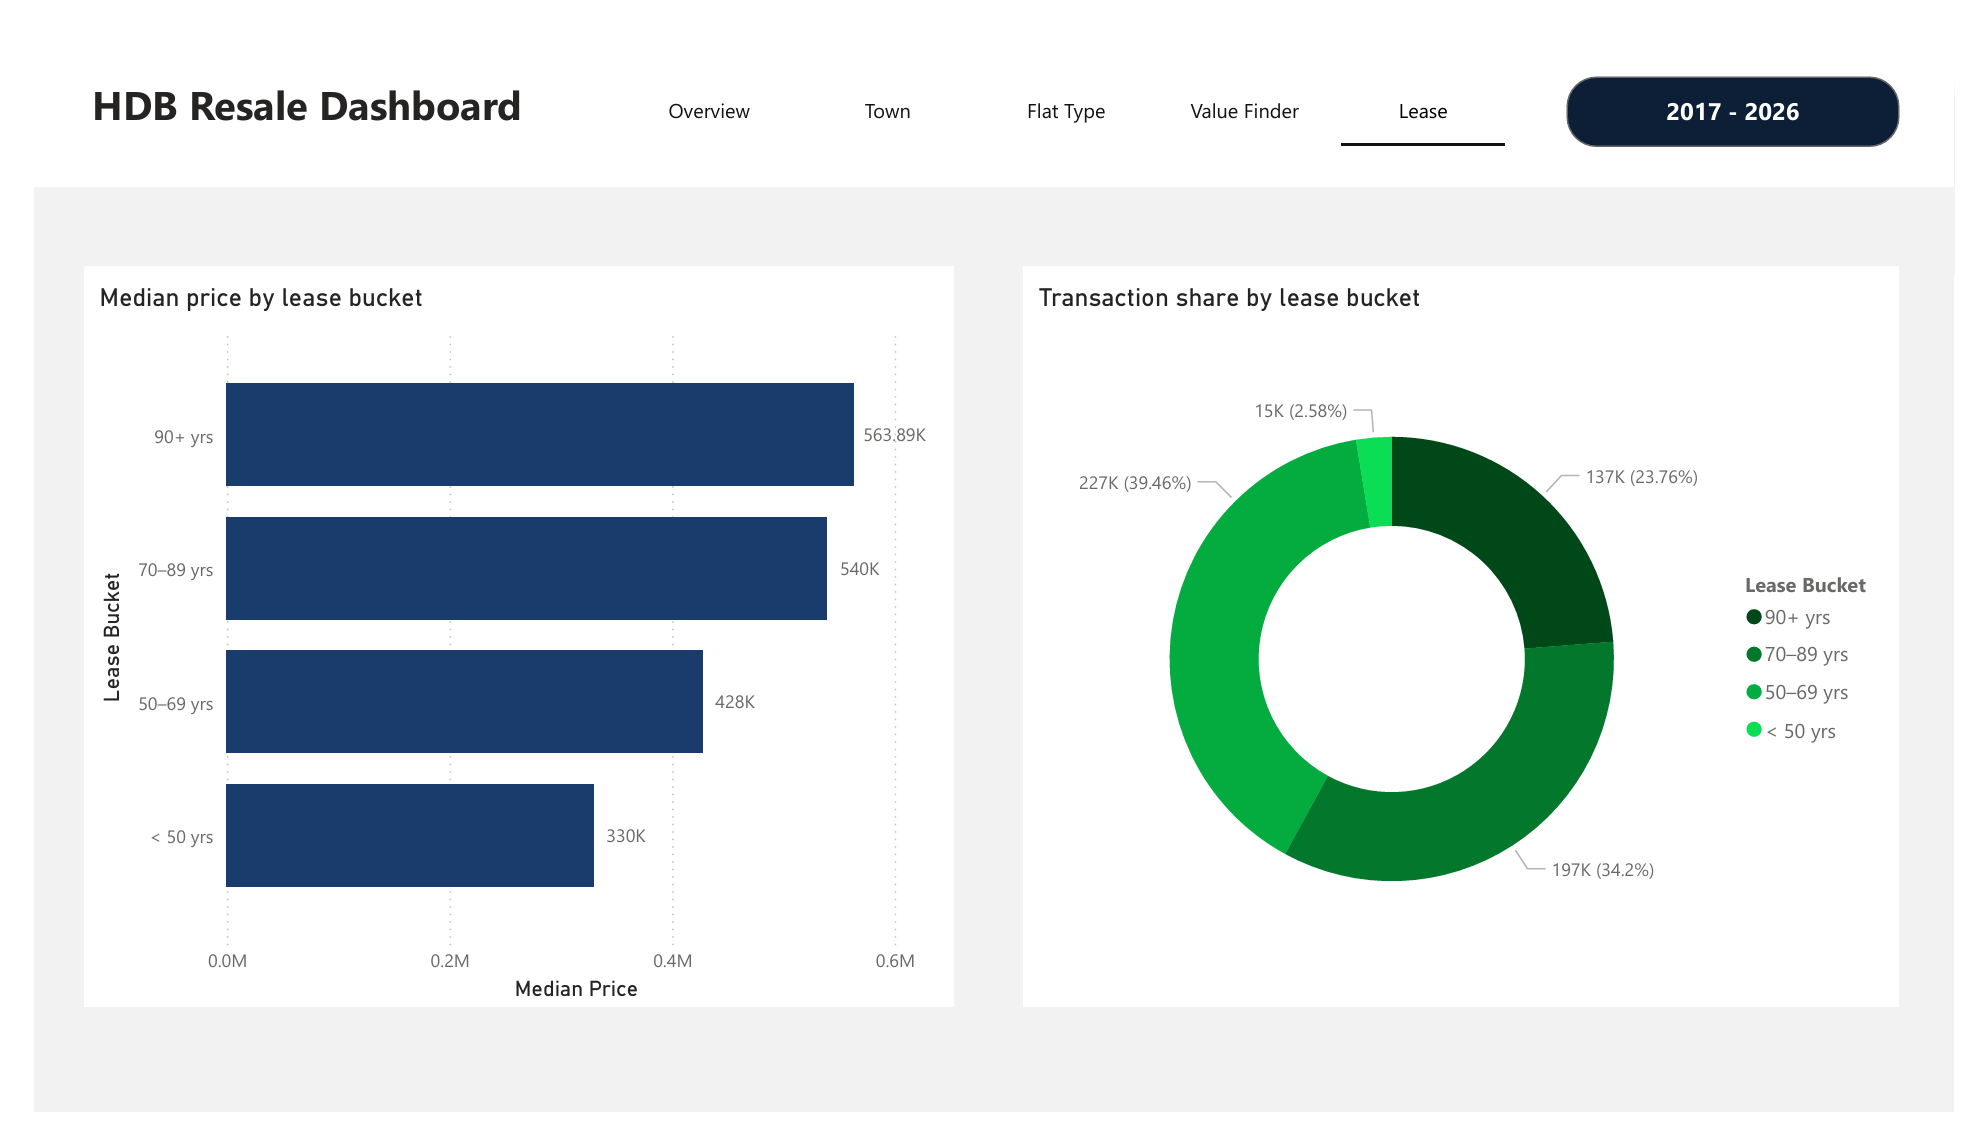

This screenshot's page, from the dashboard's own definition file:
{"tool":"powerbi","page":{"name":"Lease","canvas":[1280,720],"ordinal":4},"visuals":[{"type":"shape","box":[0,0,1279.7,103],"z":0},{"type":"textbox","box":[33.3,29.4,361.8,45.1],"z":1000},{"type":"pageNavigator","box":[395.2,26.5,584.4,50],"z":2000},{"type":"textbox","box":[1020.8,29.4,222.6,47.1],"z":3000},{"type":"clusteredBarChart","title":"Median price by lease bucket","fields":{"Category":["public vw_full_detail.Lease Bucket"],"Y":["Measure.Median Price"]},"box":[33.3,155.9,579.5,494.2],"z":3001},{"type":"donutChart","title":"Transaction share by lease bucket","fields":{"Category":["public vw_full_detail.Lease Bucket"],"Y":["Sum(public vw_full_detail.qtr)"]},"box":[659,155.9,584.4,494.2],"z":3002}]}

Visuals, with their boxes in screenshot pixels (x1, y1, x2, y2), scaled from the page's 1280x720 canvas onto the 1986x1147 screenshot:
shape: (left=0, top=0, right=1985, bottom=164)
textbox: (left=52, top=47, right=613, bottom=119)
pageNavigator: (left=613, top=42, right=1520, bottom=122)
textbox: (left=1584, top=47, right=1929, bottom=122)
"Median price by lease bucket" clusteredBarChart: (left=52, top=248, right=951, bottom=1036)
"Transaction share by lease bucket" donutChart: (left=1022, top=248, right=1929, bottom=1036)
